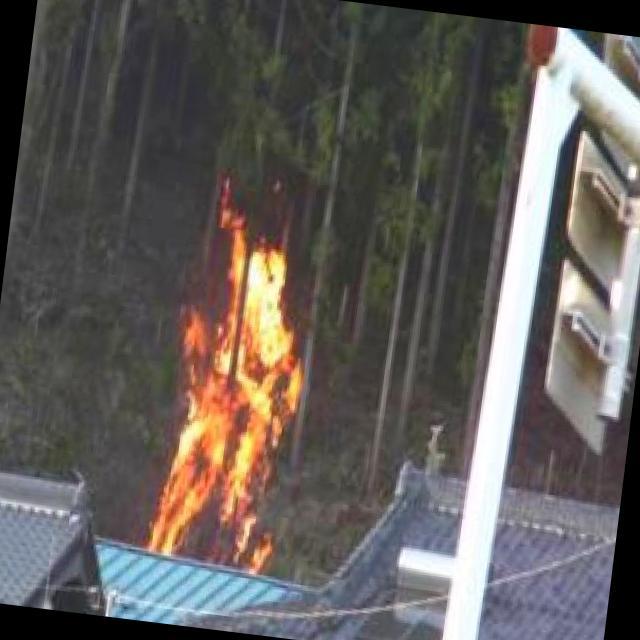Fire: (137, 191, 330, 578)
